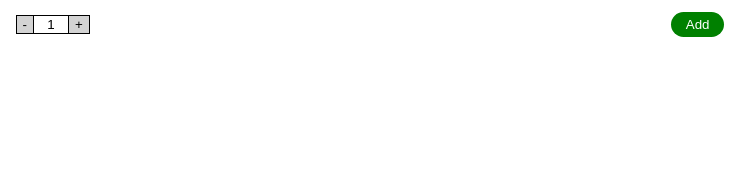
Test: Quantity Toggle › correctly increases the qty
Click the button "+".
click(79, 24)  # box 68,15 -> 90,34
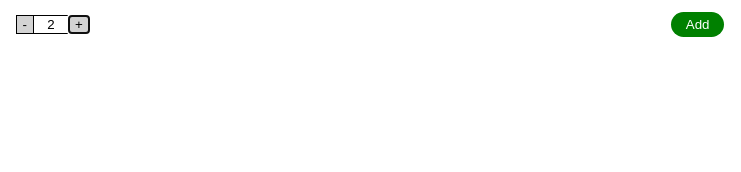
Expected: the number field named "Quantity" holds "2", 34,15 -> 68,34
Click the button "+".
click(79, 24)  # box 68,15 -> 90,34
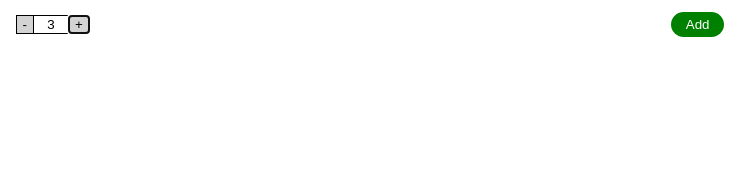
Click the button "+".
click(79, 24)  # box 68,15 -> 90,34
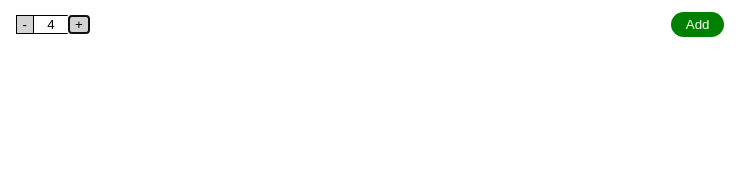
Click the button "+".
click(79, 24)  # box 68,15 -> 90,34
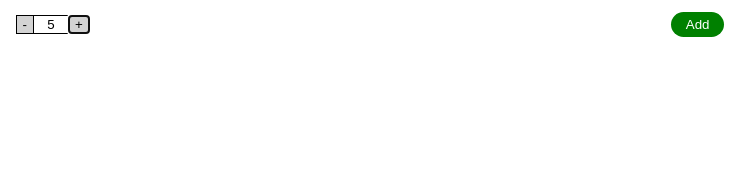
Click the button "+".
click(79, 24)  # box 68,15 -> 90,34
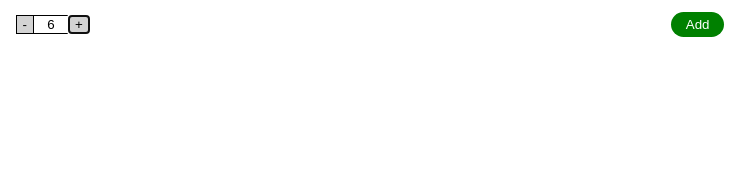
Click the button "+".
click(79, 24)  # box 68,15 -> 90,34
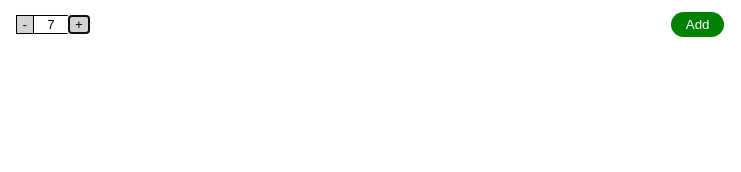
Expected: the number field named "Quantity" holds "7", 34,15 -> 68,34
